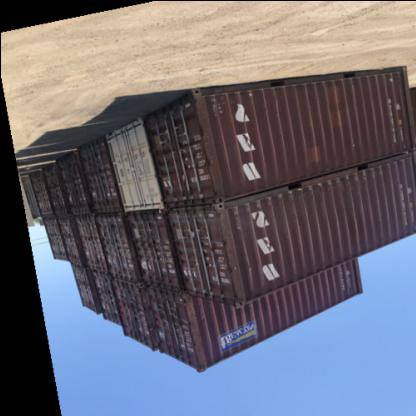Damage: (223, 222, 247, 286), (184, 113, 205, 180)
